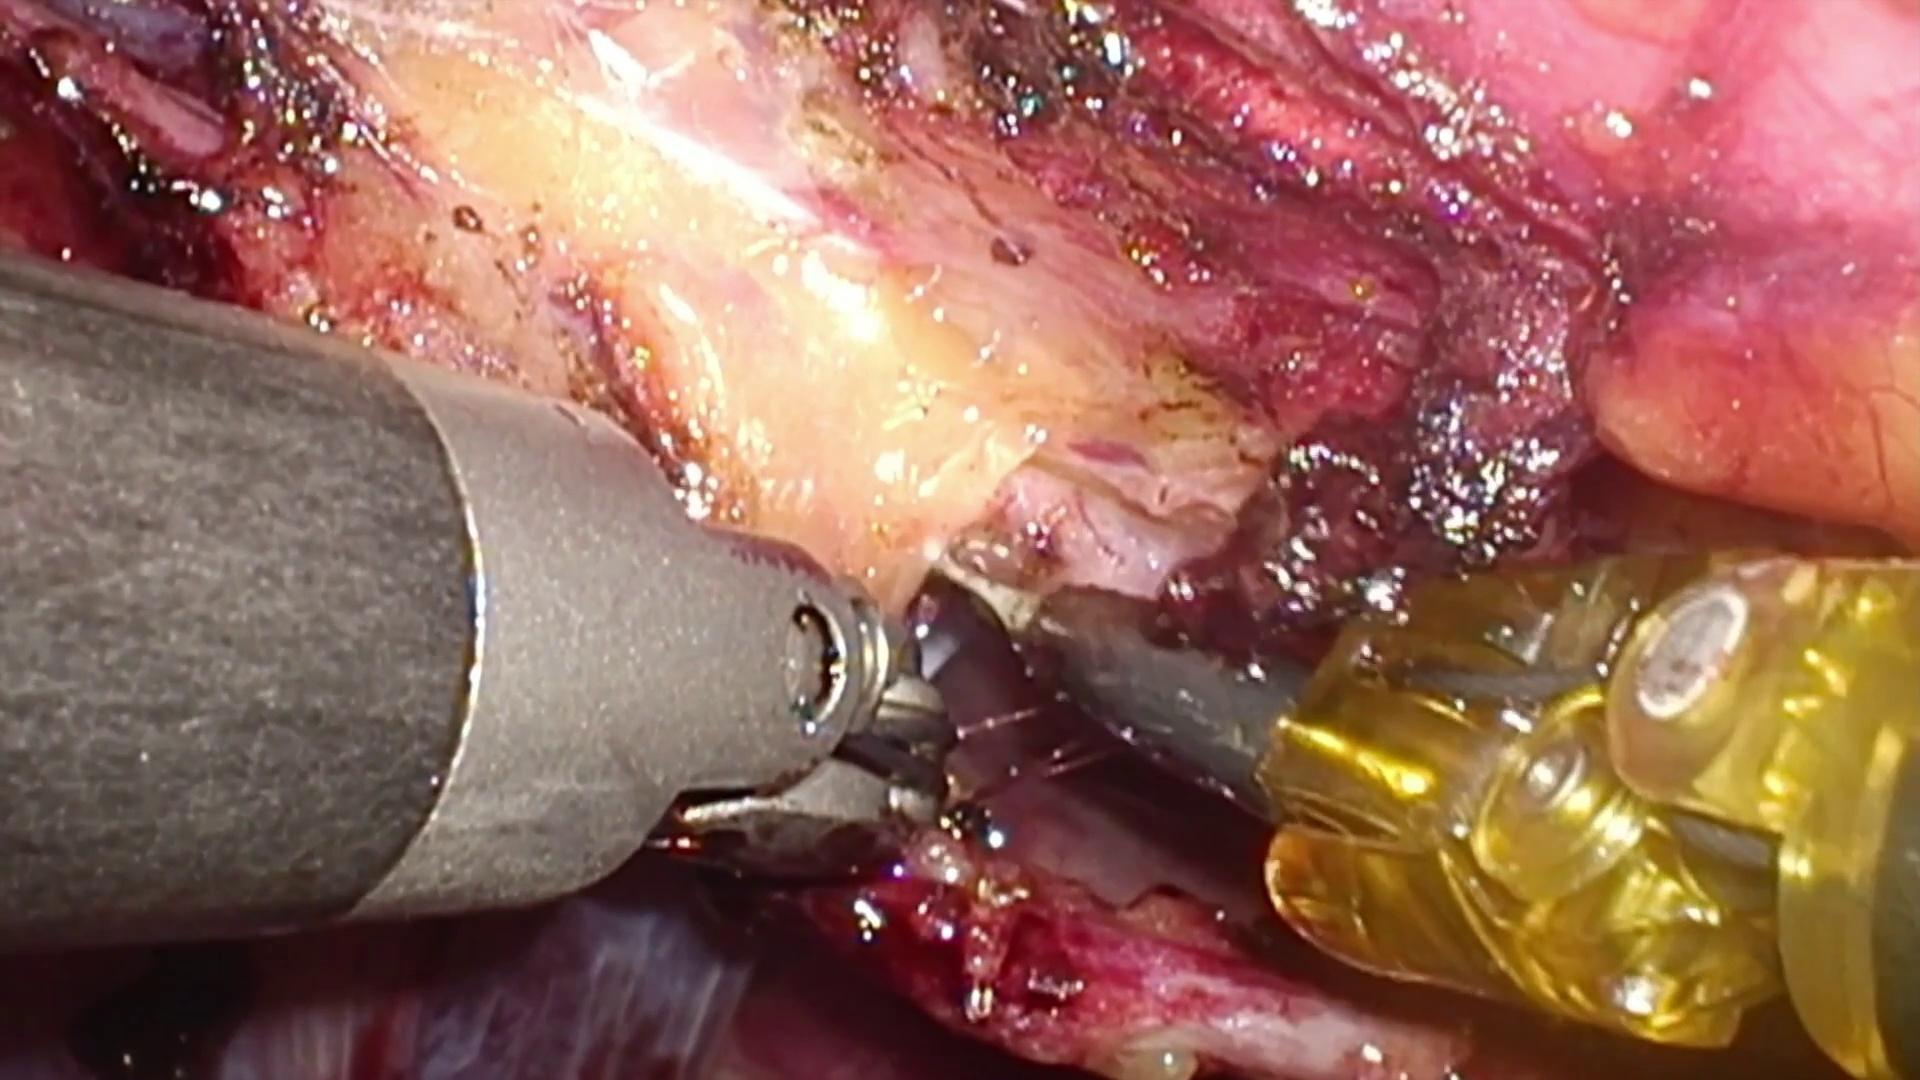Cautery_Spatula: (942, 545, 1307, 804)
Debakey: (894, 808, 963, 872)
